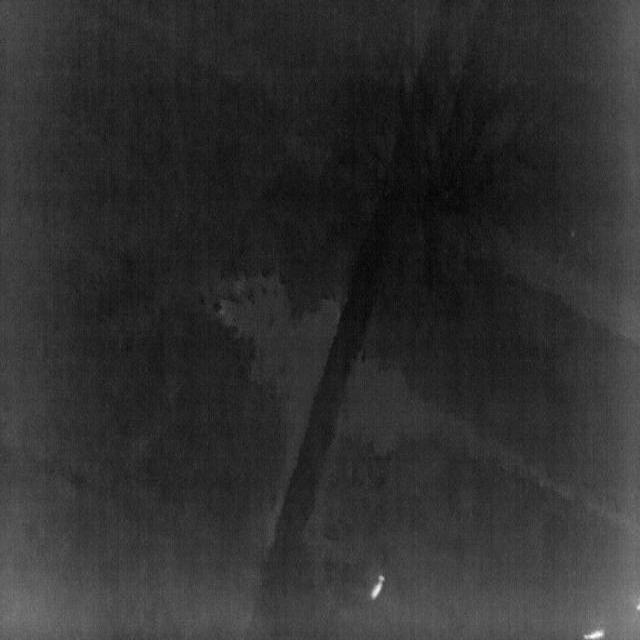deer: (368, 574, 386, 600), (582, 628, 606, 640), (636, 601, 640, 614)
